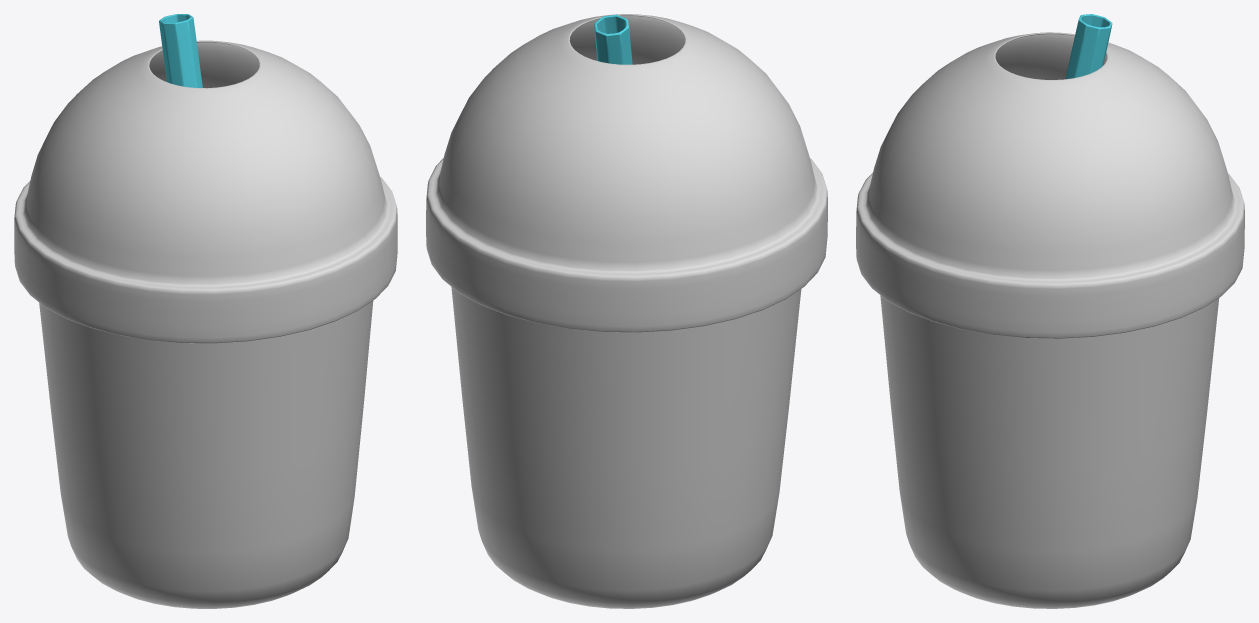
The model's file is Boba tea.fbx.
3 renders of one model, left to right at view 1: azimuth 30°, elevation 25°; view 2: azimuth 150°, elevation 25°; view 3: azimuth 270°, elevation 25°, orthographic. The views are drawn at different scales.
Parts seen in each view (by area): view 1: Tapa.001, Vaso.001, Pajita.001; view 2: Tapa.001, Vaso.001, Pajita.001; view 3: Tapa.001, Vaso.001, Pajita.001.
Part boxes in pixels (<box>): Tapa.001: <box>14,40,397,343</box>; Vaso.001: <box>39,300,373,608</box>; Pajita.001: <box>159,14,202,87</box>; Tapa.001: <box>426,14,827,332</box>; Vaso.001: <box>451,287,801,608</box>; Pajita.001: <box>594,14,632,64</box>; Tapa.001: <box>856,32,1244,338</box>; Vaso.001: <box>880,295,1219,608</box>; Pajita.001: <box>1065,14,1112,79</box>.
Size of the model in its own units: 8.59 by 13.25 by 8.59.
